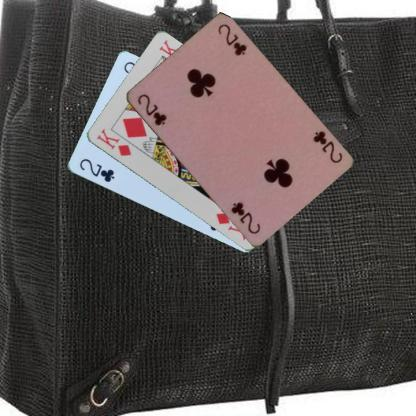2c: (310, 127, 344, 164), (134, 91, 167, 127), (76, 155, 116, 184)
Kd: (94, 126, 132, 158)
